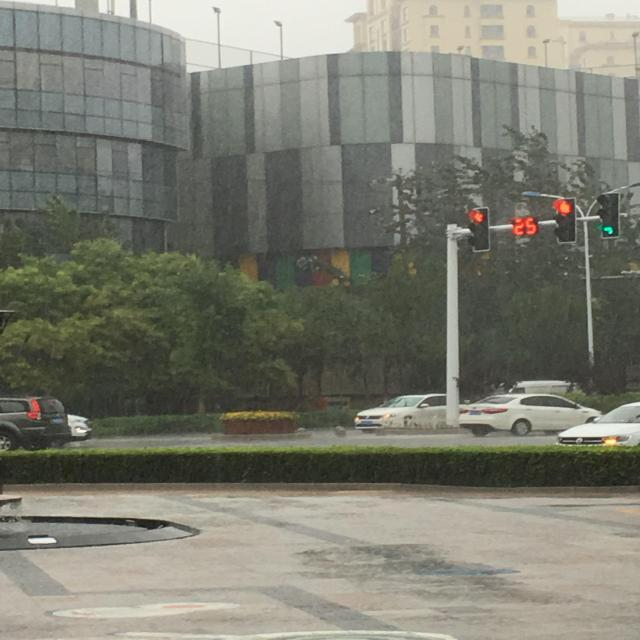car: (461, 394, 603, 435), (0, 397, 70, 449), (558, 403, 640, 446), (356, 393, 448, 430), (486, 378, 586, 396), (66, 412, 91, 439)
